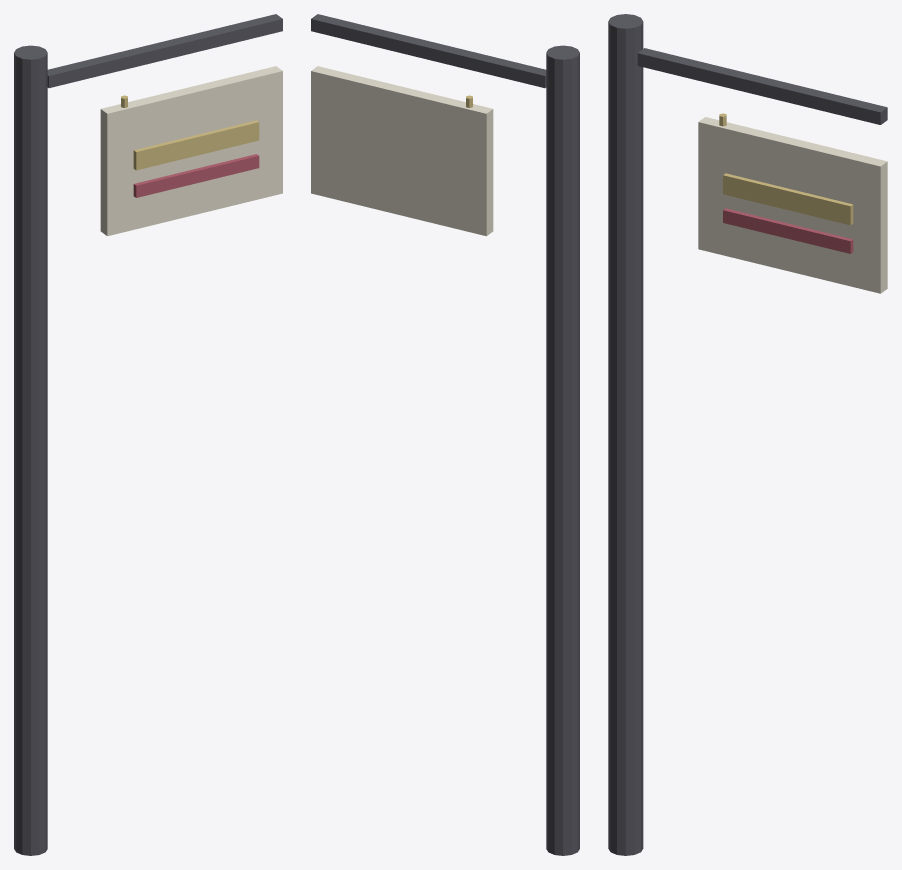
File: mdl_objects_hanging_sign_001.glb
3 renders of one model, left to right at view 1: azimuth 30°, elevation 25°; view 2: azimuth 150°, elevation 25°; view 3: azimuth 330°, elevation 25°, orthographic. The views are drawn at different scales.
Visible parts, largest first — view 1: m_carbon, m_crema, m_oro_viejo, m_carmesi; view 2: m_carbon, m_crema; view 3: m_carbon, m_crema, m_oro_viejo, m_carmesi.
Part boxes in pixels (bbox=[...]): m_carbon: bbox=[14, 14, 282, 855]; m_crema: bbox=[100, 66, 282, 236]; m_oro_viejo: bbox=[121, 95, 259, 170]; m_carmesi: bbox=[133, 154, 259, 197]; m_carbon: bbox=[311, 14, 579, 855]; m_crema: bbox=[311, 66, 493, 236]; m_carbon: bbox=[608, 14, 887, 855]; m_crema: bbox=[698, 117, 887, 293]; m_oro_viejo: bbox=[719, 113, 853, 225]; m_carmesi: bbox=[723, 208, 853, 253].
Size of the model in its own units: 0.9 by 2.6 by 0.1.
